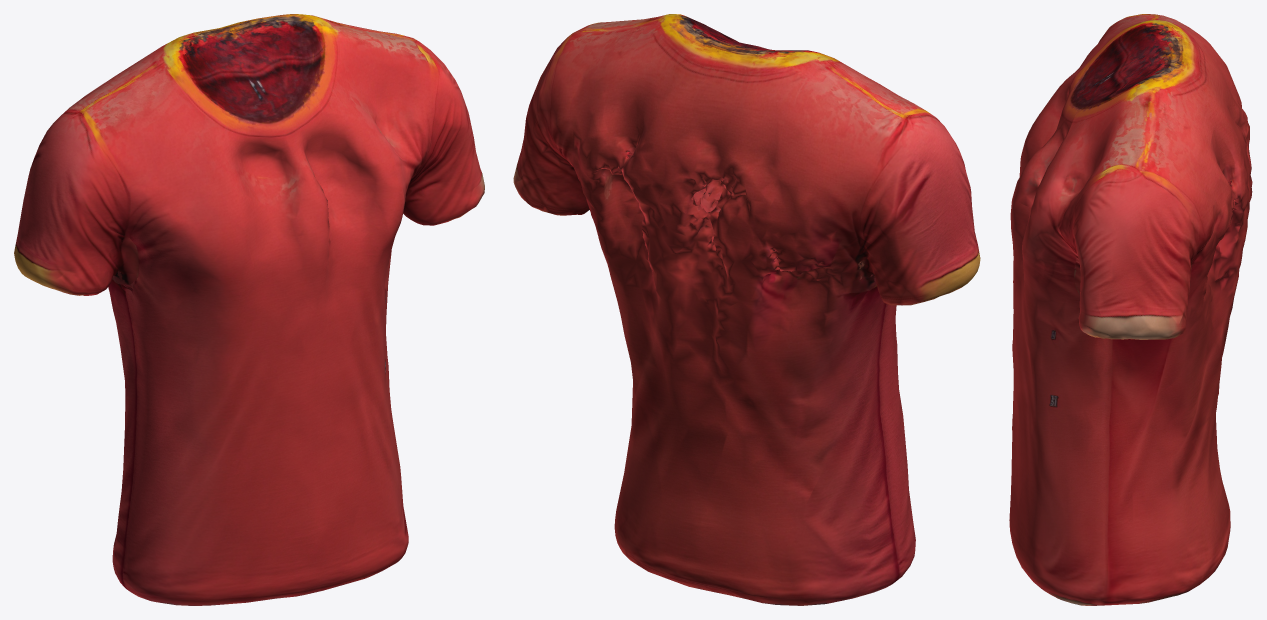
3 renders of one model, left to right at view 1: azimuth 30°, elevation 25°; view 2: azimuth 150°, elevation 25°; view 3: azimuth 270°, elevation 25°, orthographic. The views are drawn at different scales.
Bounding box in the file's own units: 1.06 × 1.2 × 0.5219.
Materials: 1 (1 with a texture image).
